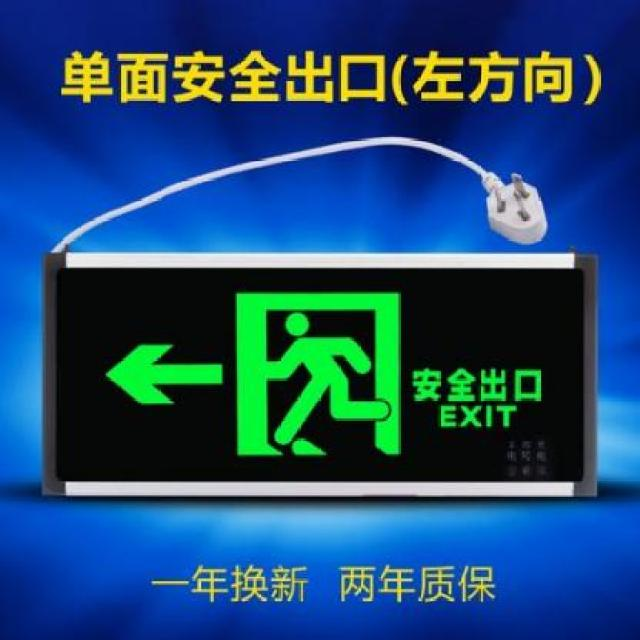exit_sign: (39, 243, 602, 505)
